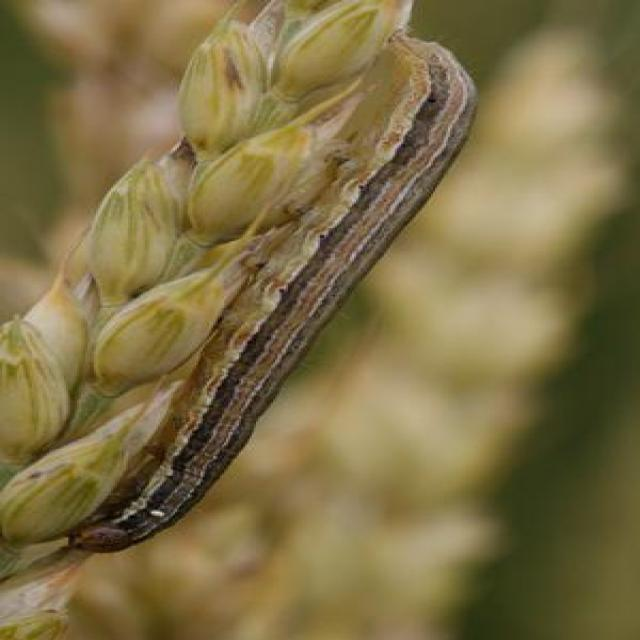armyworm: (36, 22, 518, 596)
